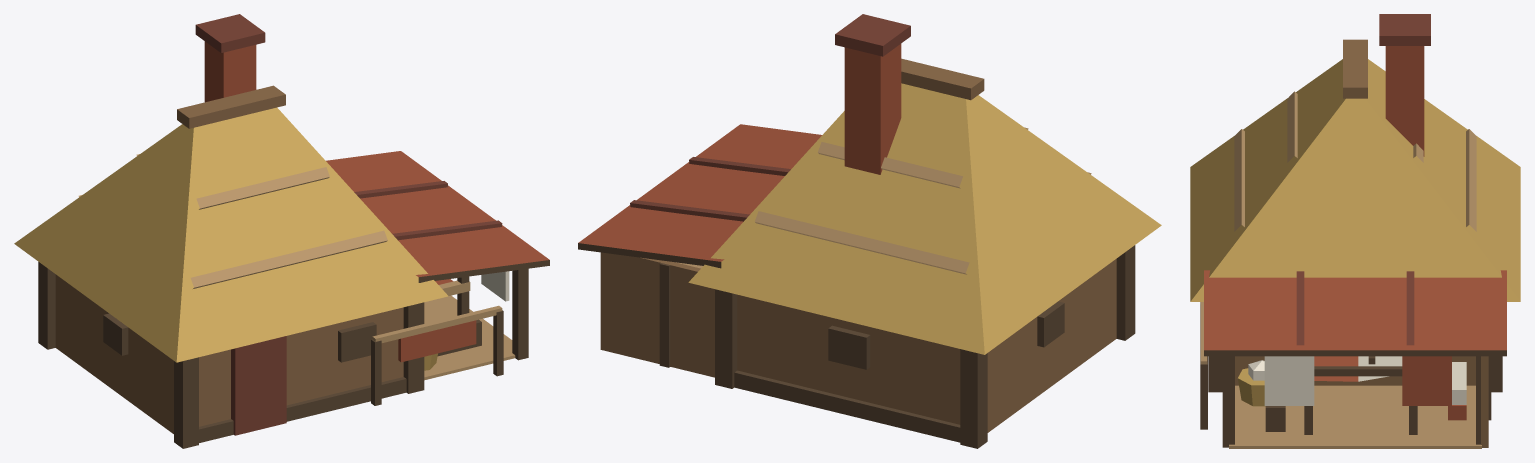
Rendered from weaver-cottage.glb.
The picture shows the model from 3 angles, left to right: view 1: azimuth 30°, elevation 25°; view 2: azimuth 150°, elevation 25°; view 3: azimuth 270°, elevation 25°; orthographic projection. The views are drawn at different scales.
Parts seen in each view (by area): view 1: weaver-cottage; view 2: weaver-cottage; view 3: weaver-cottage.
Boxes of the visible parts, x1,y1,x2,y2 form: weaver-cottage: (14,14,549,448); weaver-cottage: (578,14,1161,448); weaver-cottage: (1190,14,1520,448).
Bounding box in the file's own units: 8.1 × 6.4 × 6.
Materials: 1 (1 with a texture image).
